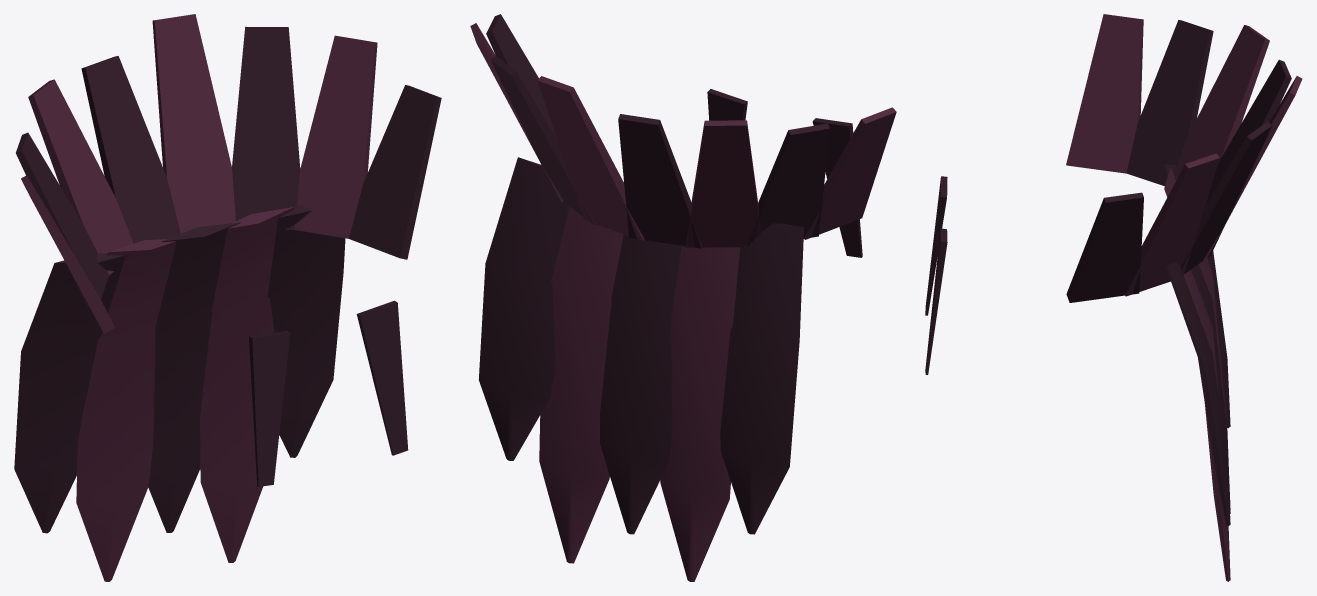
The model's file is weaver_mantle.fbx.
3 views of the same model, side by side, from view 1: azimuth 30°, elevation 25°; view 2: azimuth 150°, elevation 25°; view 3: azimuth 270°, elevation 25° (orthographic). The views are drawn at different scales.
Visible parts, largest first — view 1: weaver_mantle; view 2: weaver_mantle; view 3: weaver_mantle.
Part boxes in pixels (x1,y1,x2,y2): weaver_mantle: (14, 14, 441, 581); weaver_mantle: (470, 14, 896, 581); weaver_mantle: (925, 14, 1302, 581).
Bounding box in the file's own units: 1.15 × 1.4 × 0.9821.
